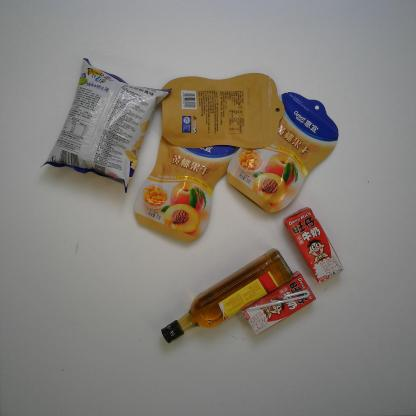Dried Fruit: (227, 91, 339, 214), (134, 113, 238, 244), (161, 72, 285, 150)
Milk: (282, 207, 344, 284), (242, 271, 316, 335)
Puffed Food: (40, 57, 172, 194)
Seasoner: (160, 247, 294, 344)
